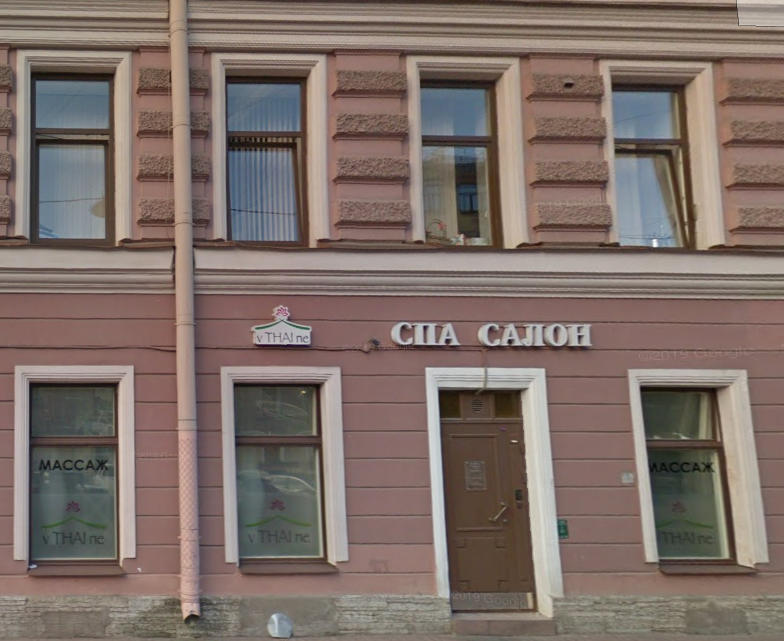door: (439, 420, 537, 610)
signboard: (388, 318, 594, 349), (251, 302, 315, 348)
window: (639, 381, 737, 564), (29, 380, 123, 567), (236, 381, 329, 561), (29, 67, 119, 245), (611, 79, 702, 255), (224, 76, 309, 249), (422, 80, 497, 250)
